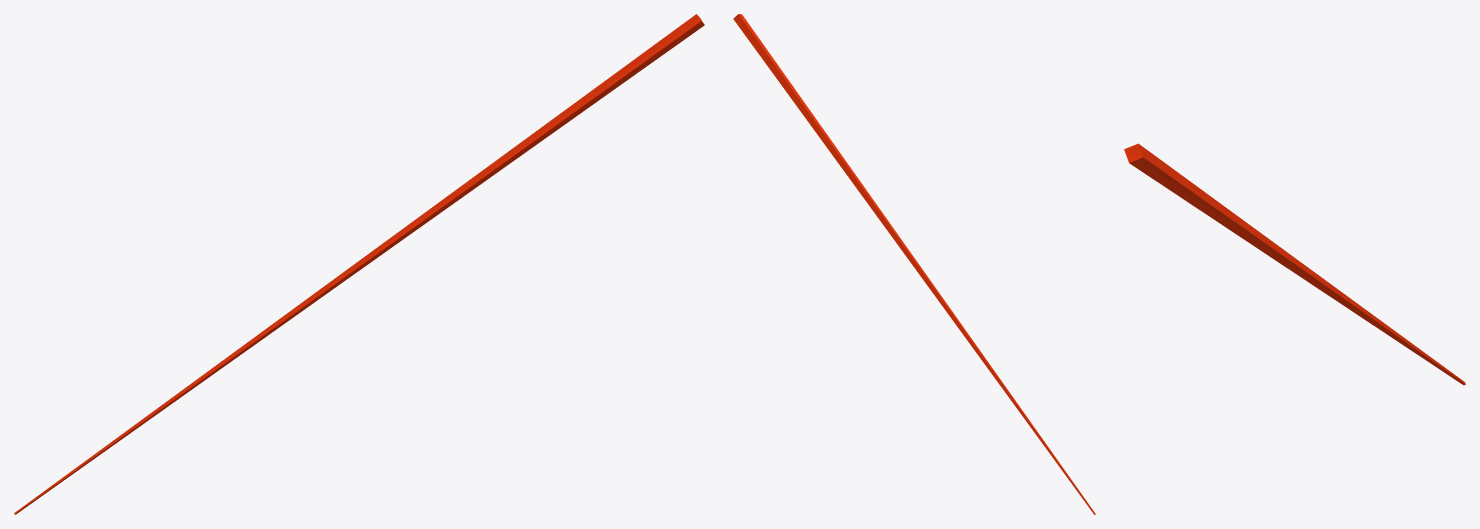
File: Event_421115418_EBrechit_35.fbx
3 views of the same model, side by side, from view 1: azimuth 30°, elevation 25°; view 2: azimuth 150°, elevation 25°; view 3: azimuth 270°, elevation 25° (orthographic). The views are drawn at different scales.
Parts seen in each view (by area): view 1: Model; view 2: Model; view 3: Model.
Part boxes in pixels (x1,y1,x2,y2): Model: (14,14,704,514); Model: (733,14,1095,514); Model: (1124,143,1465,385).
Bounding box in the file's own units: 23.68 × 17.11 × 7.92.
